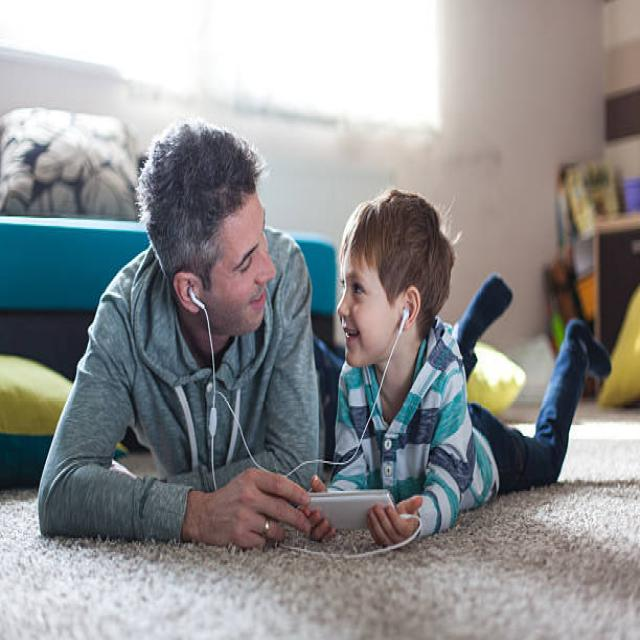Earphone: (188, 286, 422, 560)
